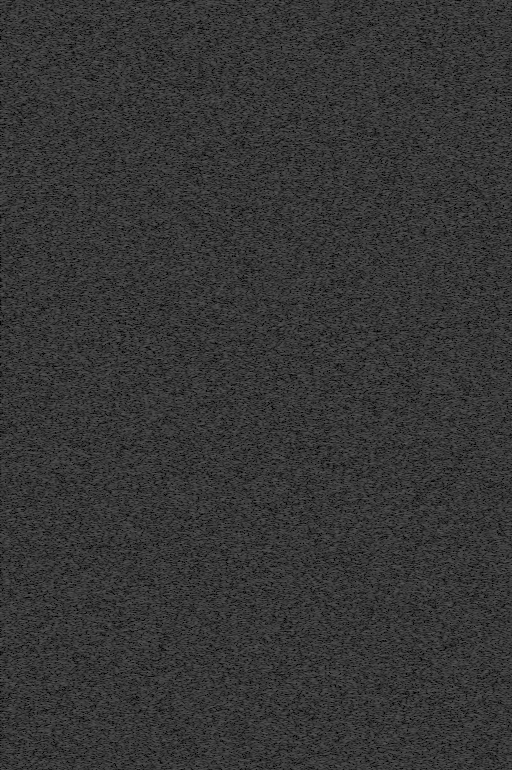wv_am: (43, 0, 48, 770)
wv_dvbt_8kfft: (235, 0, 465, 770)
wv_lsb: (41, 479, 45, 488), (41, 512, 44, 518), (41, 489, 45, 492), (41, 474, 44, 478), (41, 459, 44, 463), (41, 451, 45, 454), (41, 429, 45, 432), (41, 503, 44, 506), (41, 439, 44, 442)
wv_usb: (43, 474, 49, 580), (43, 648, 49, 688), (44, 164, 49, 203), (44, 706, 48, 752), (44, 585, 48, 631), (44, 84, 48, 123), (44, 218, 48, 251), (44, 271, 48, 302), (44, 137, 48, 163), (44, 61, 48, 81), (44, 753, 48, 770), (44, 692, 49, 705), (44, 632, 48, 647), (44, 124, 48, 136), (44, 368, 48, 379), (44, 204, 48, 210), (45, 310, 48, 317), (44, 380, 48, 385), (44, 258, 48, 263), (44, 11, 48, 16), (45, 398, 48, 404), (44, 252, 48, 256), (44, 213, 48, 217), (45, 420, 48, 425), (45, 413, 48, 418), (45, 5, 48, 10), (45, 386, 48, 390), (45, 23, 48, 27), (44, 581, 48, 584), (45, 434, 48, 437), (45, 305, 48, 308), (45, 49, 48, 52), (45, 32, 48, 35), (45, 438, 48, 441)
wv_wbfm: (23, 0, 33, 770), (214, 0, 222, 770)
